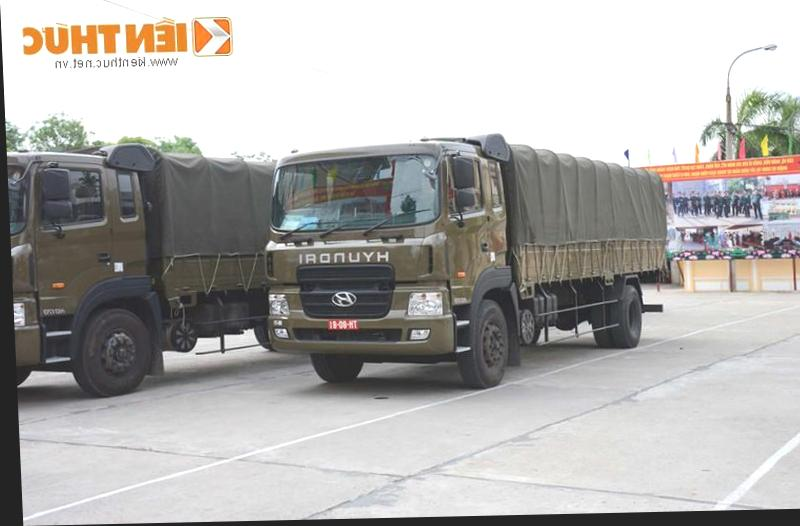License_Plate: (326, 318, 360, 331)
